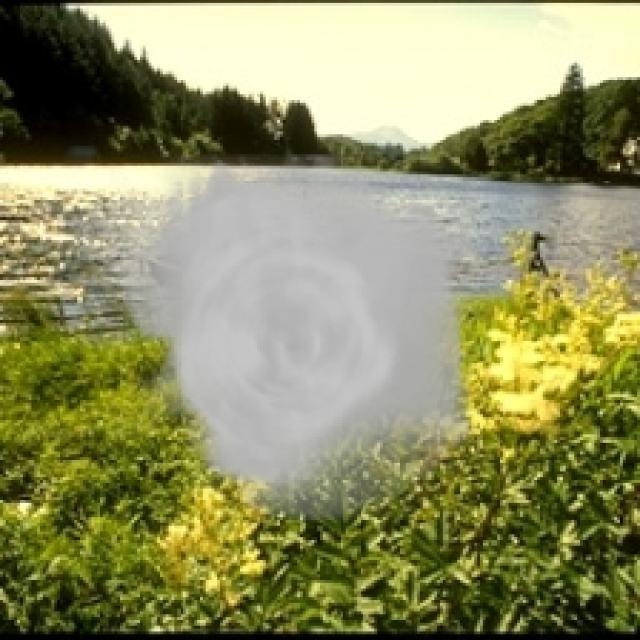Smoke: (109, 154, 492, 523)
